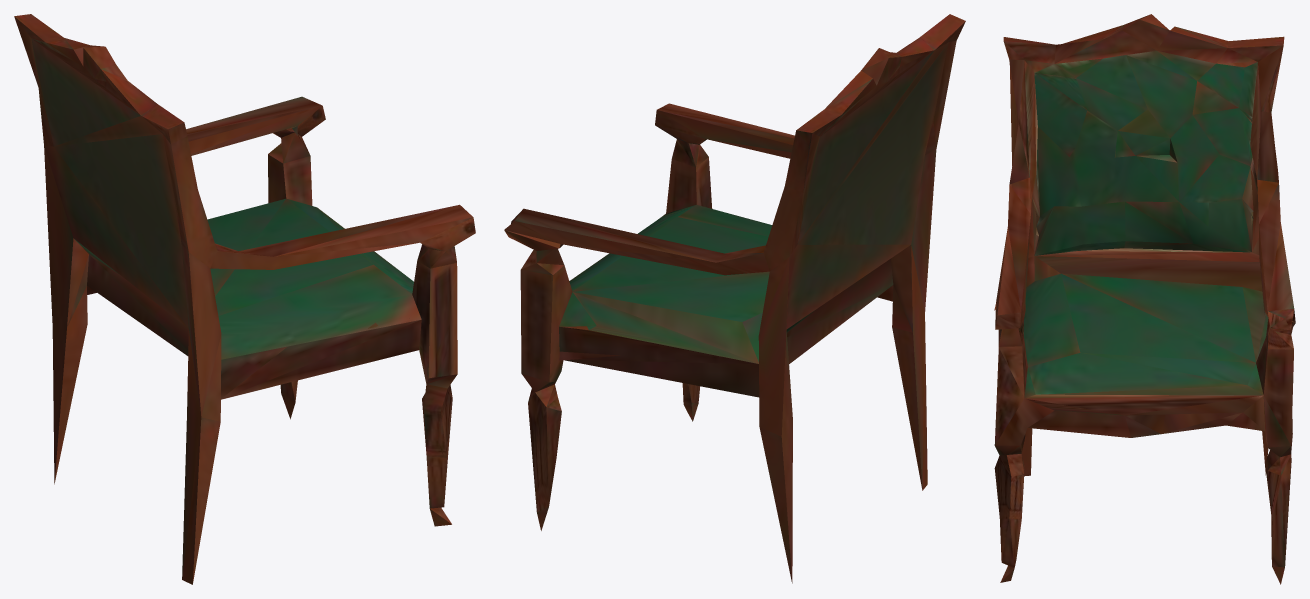
The model's file is mj-dining-chair-jacobean.lod1.glb.
The picture shows the model from 3 angles, left to right: view 1: azimuth 30°, elevation 25°; view 2: azimuth 150°, elevation 25°; view 3: azimuth 270°, elevation 25°; orthographic projection. The views are drawn at different scales.
Parts seen in each view (by area): view 1: mj-dining-chair-jacobean; view 2: mj-dining-chair-jacobean; view 3: mj-dining-chair-jacobean.
Part boxes in pixels (box(x1,y1,x2,y2)): mj-dining-chair-jacobean: box(14, 14, 475, 584); mj-dining-chair-jacobean: box(504, 14, 965, 583); mj-dining-chair-jacobean: box(994, 14, 1295, 584).
Bounding box in the file's own units: 0.6194 × 0.9483 × 0.5772.
Materials: 1 (1 with a texture image).
